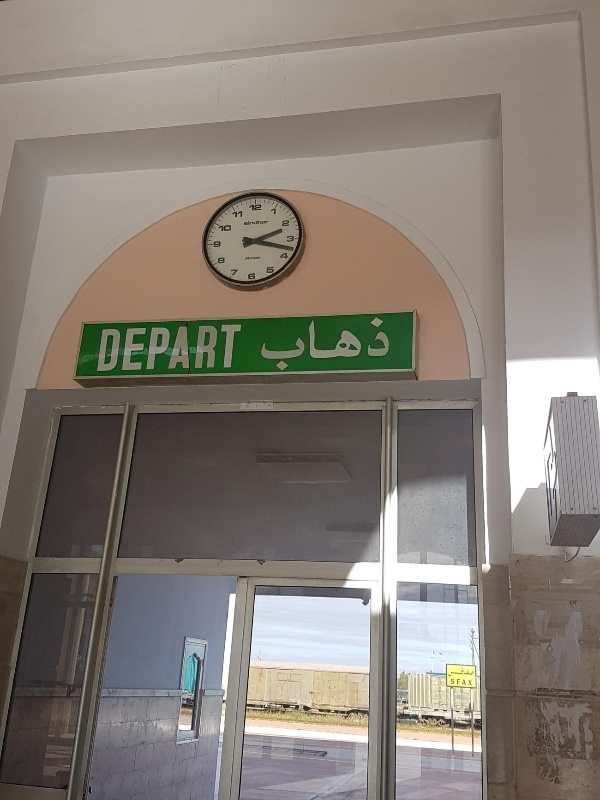text: (273, 314, 288, 373), (289, 314, 304, 373), (305, 314, 320, 373), (321, 314, 336, 373), (337, 314, 352, 373), (353, 314, 368, 373), (369, 314, 384, 373), (259, 314, 272, 373), (113, 323, 128, 373), (129, 323, 144, 373), (145, 323, 160, 373), (161, 323, 176, 373), (177, 323, 192, 373), (193, 323, 208, 373), (209, 323, 224, 373), (225, 323, 240, 373), (101, 323, 112, 373), (385, 314, 392, 373), (241, 323, 245, 373), (449, 667, 464, 677), (451, 678, 464, 686), (465, 667, 475, 677), (230, 269, 240, 279), (214, 241, 224, 248), (465, 678, 473, 686), (232, 211, 240, 219), (244, 256, 256, 261), (244, 221, 256, 226), (257, 221, 269, 226), (248, 273, 256, 280), (280, 252, 288, 259), (249, 204, 256, 211), (225, 225, 232, 232), (217, 257, 224, 264), (218, 225, 224, 232), (266, 267, 272, 274), (289, 236, 295, 243), (257, 204, 262, 211), (283, 220, 288, 227), (257, 256, 263, 261), (273, 208, 277, 215), (241, 211, 243, 219), (273, 267, 275, 274), (270, 208, 272, 215), (225, 257, 226, 264), (287, 236, 288, 243), (289, 220, 290, 227)
